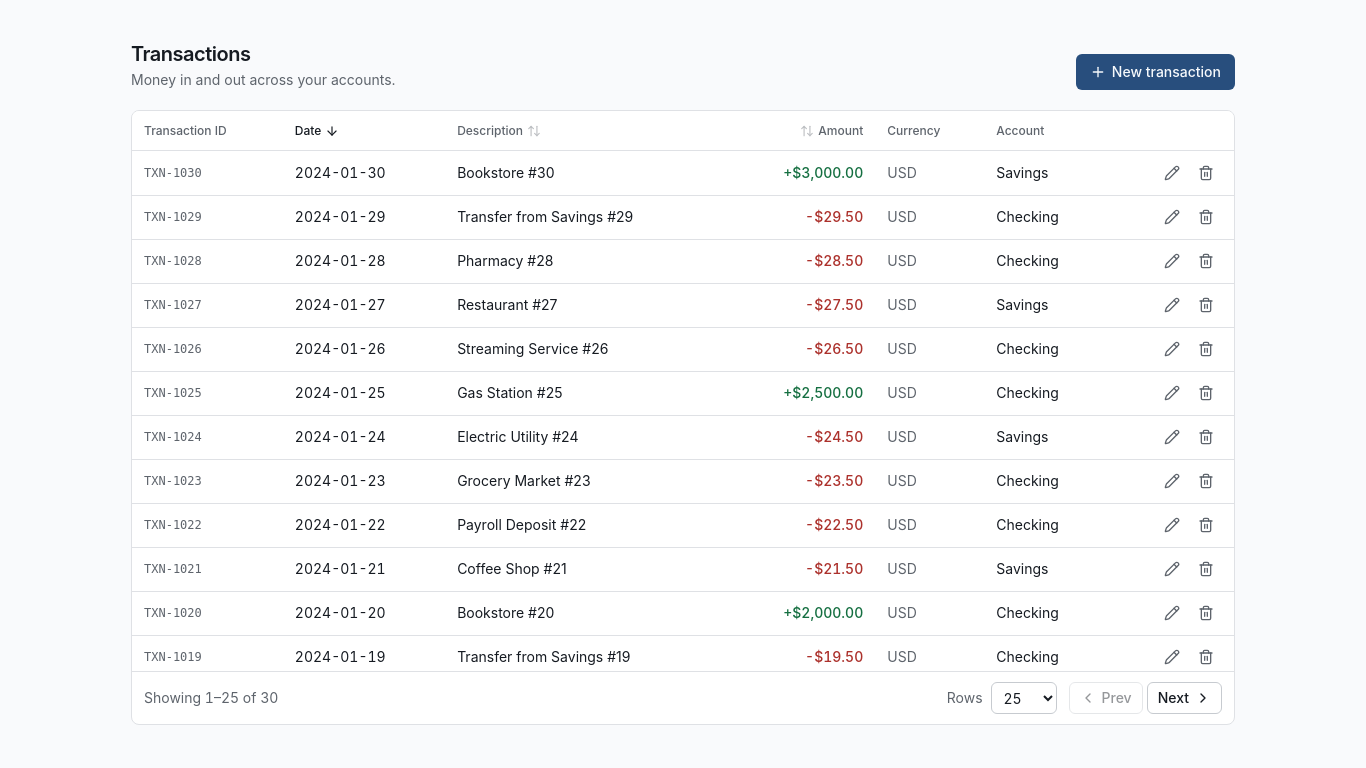
it: TransactionsTable › deletes a transaction after confirmation
Expected: the text "TXN-1030" is shown, [132,151,283,195]
Click the button named "Delete TXN-1030". click: (1206, 173)
box: [1190,157,1222,189]
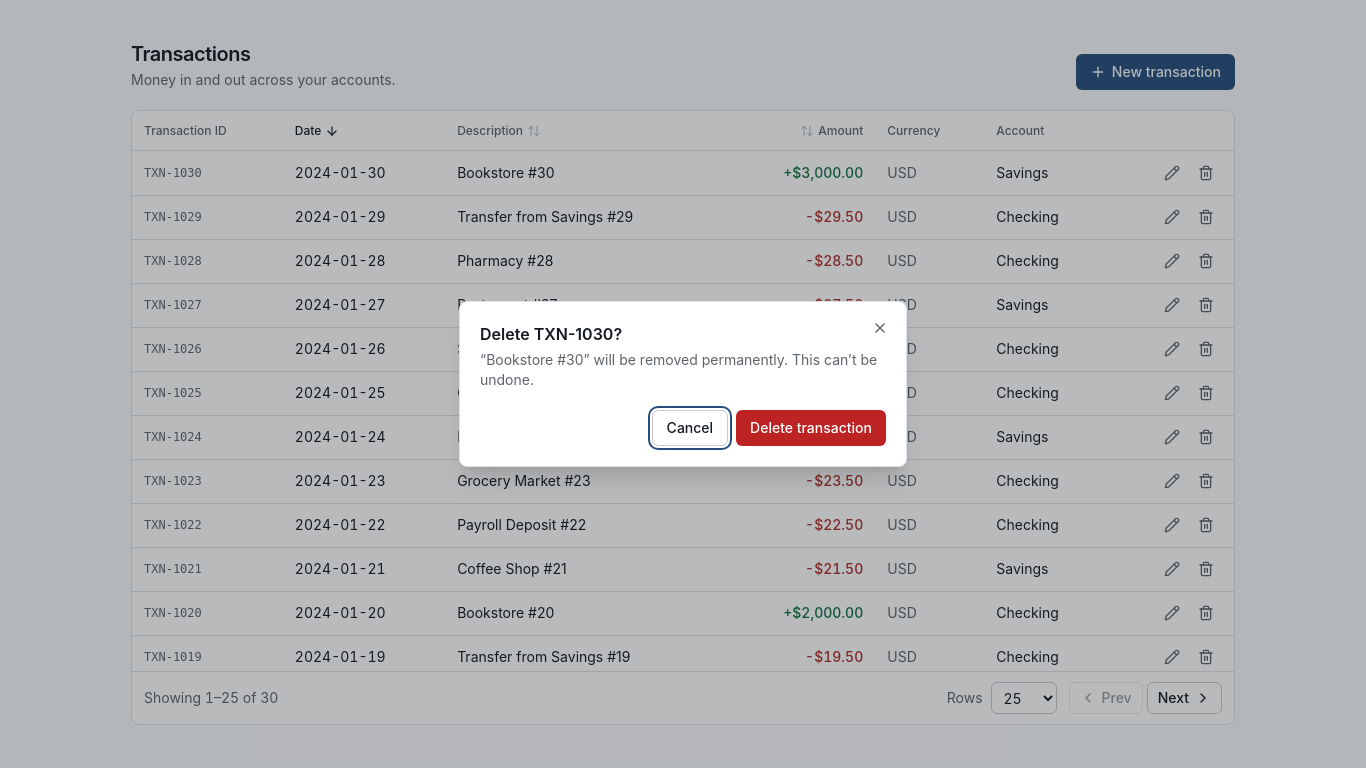
Click the button "Delete transaction". click: (811, 428)
box: [736,410,886,446]
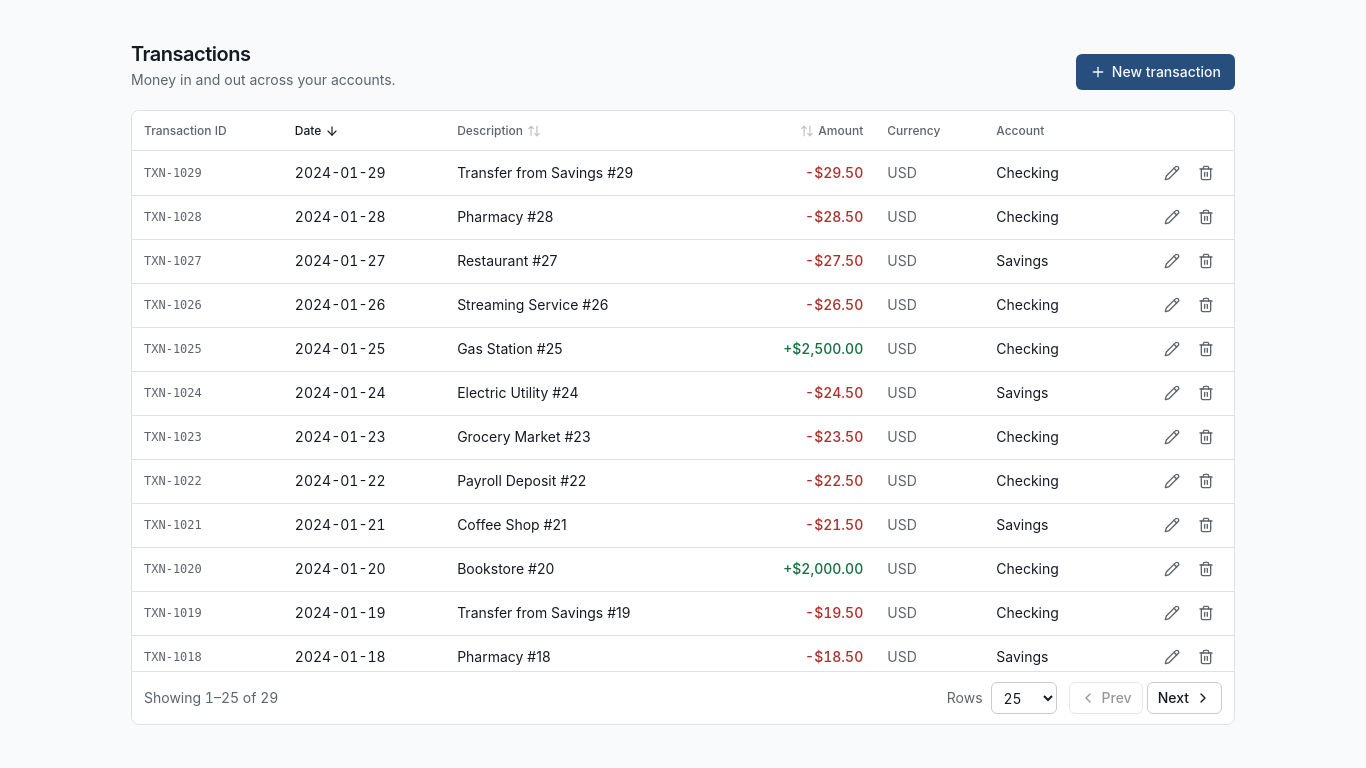
Expected: the text "TXN-1030" is gone
